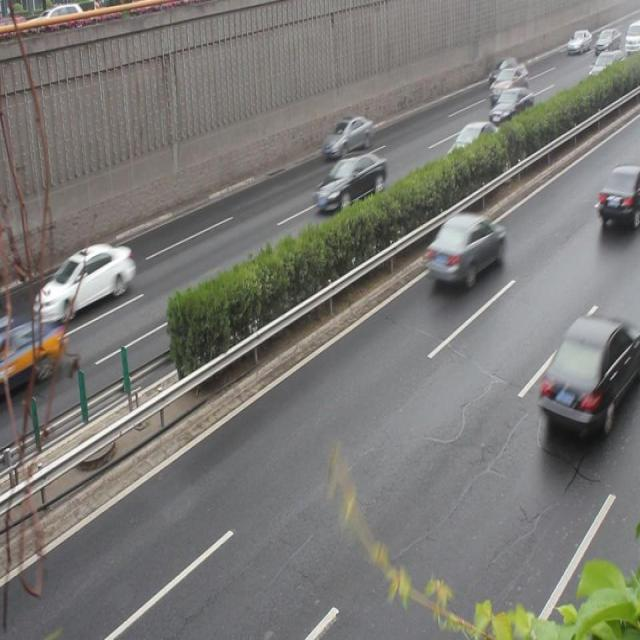car: (536, 313, 640, 440), (38, 242, 136, 320), (424, 213, 503, 288), (313, 150, 385, 213), (441, 120, 500, 180), (593, 164, 640, 232), (322, 112, 374, 158), (487, 88, 533, 134)
